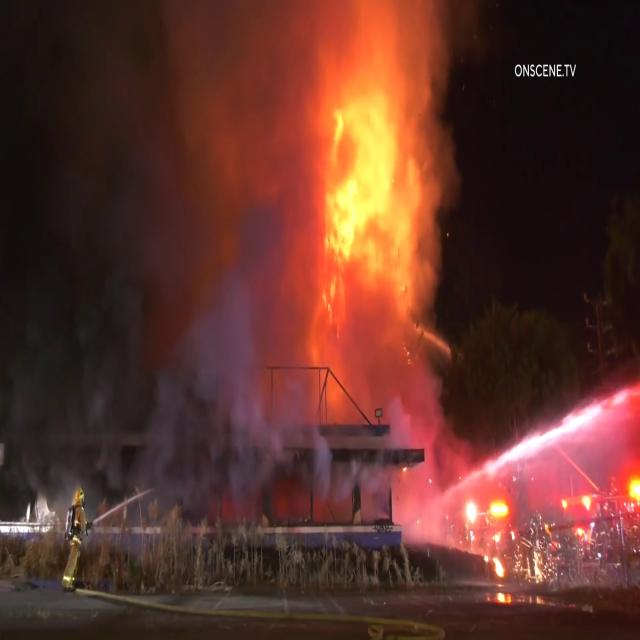fire: (320, 91, 394, 243)
smoke: (10, 2, 288, 440), (0, 172, 131, 493), (131, 263, 251, 506)
